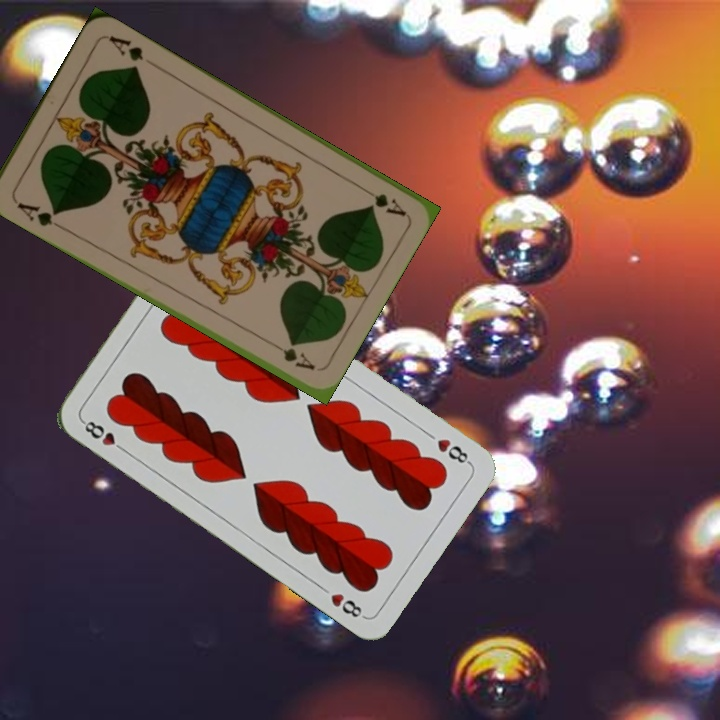GA: (354, 181, 408, 219), (11, 195, 64, 231)
H8: (78, 416, 129, 455), (433, 434, 474, 467)
